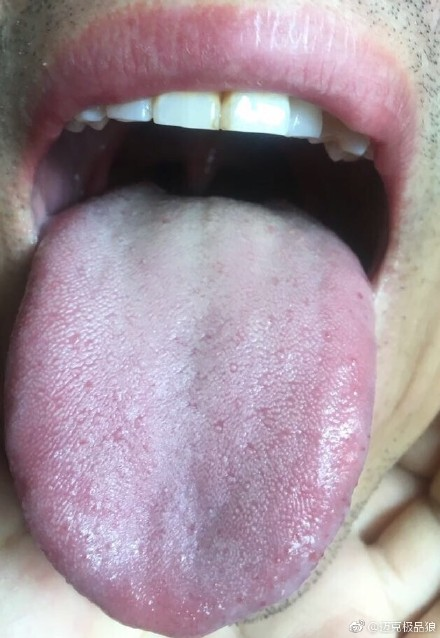baitaishe: (2, 183, 378, 638)
